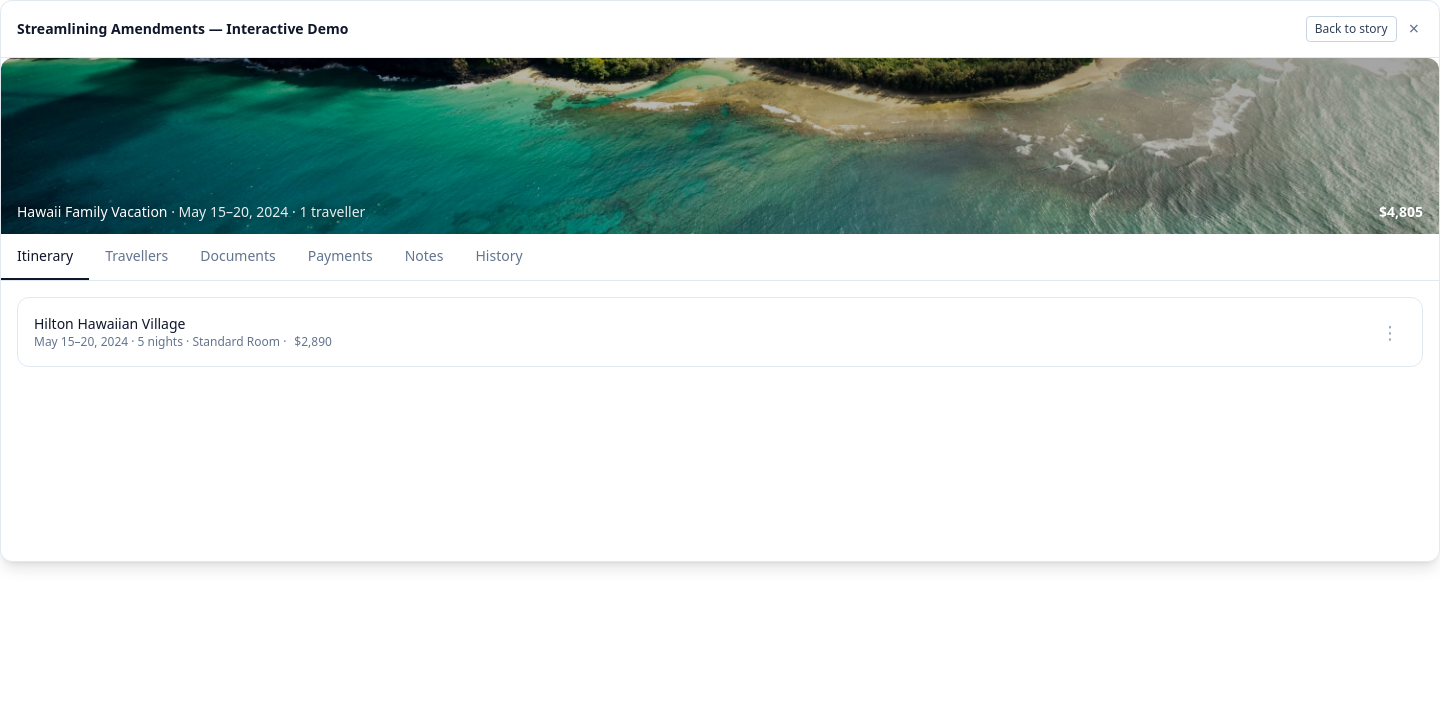
it: Dream flow – user flows › shows sold-out panel when selection includes sold night
This screenshot has width=1440, height=725.
Click the button named "Actions": (1390, 332) left=1374, top=316, right=1406, bottom=348
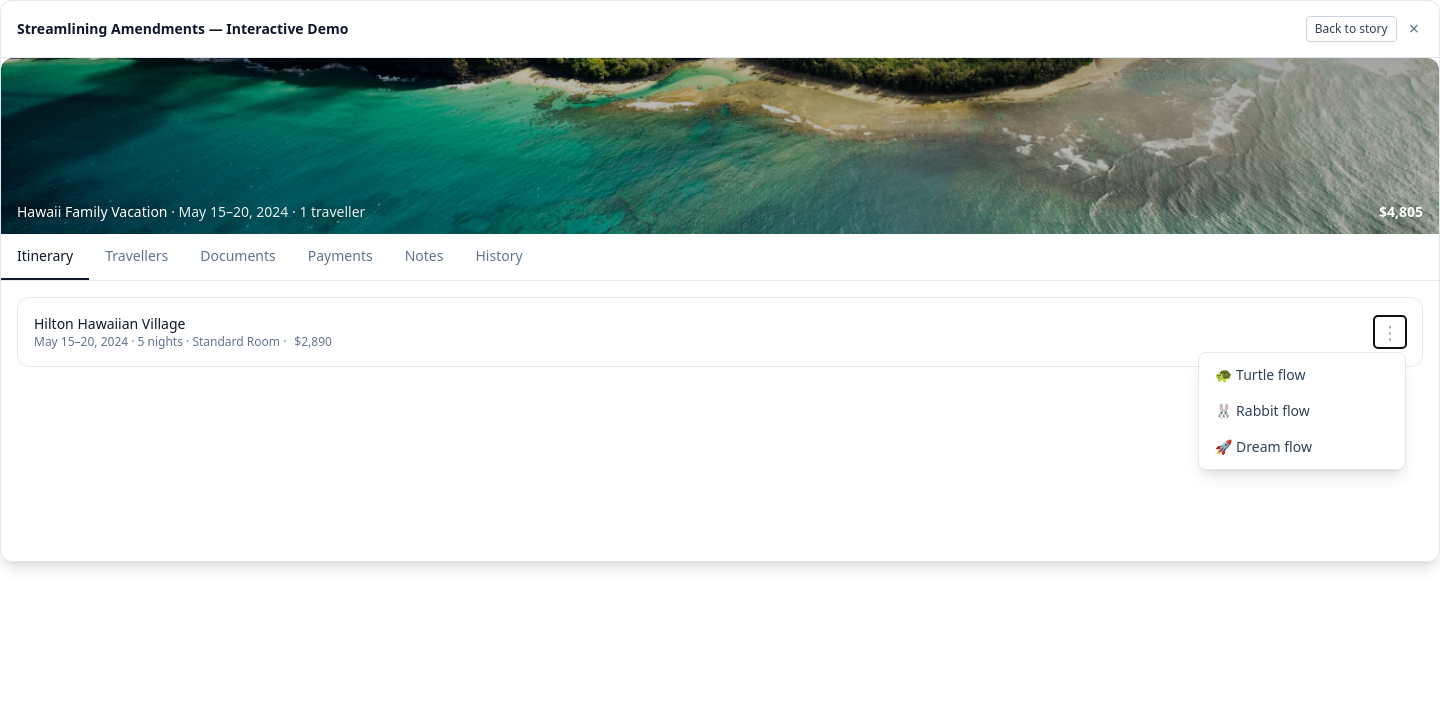
Click the button "🚀 Dream flow": (1302, 447) left=1199, top=429, right=1405, bottom=465
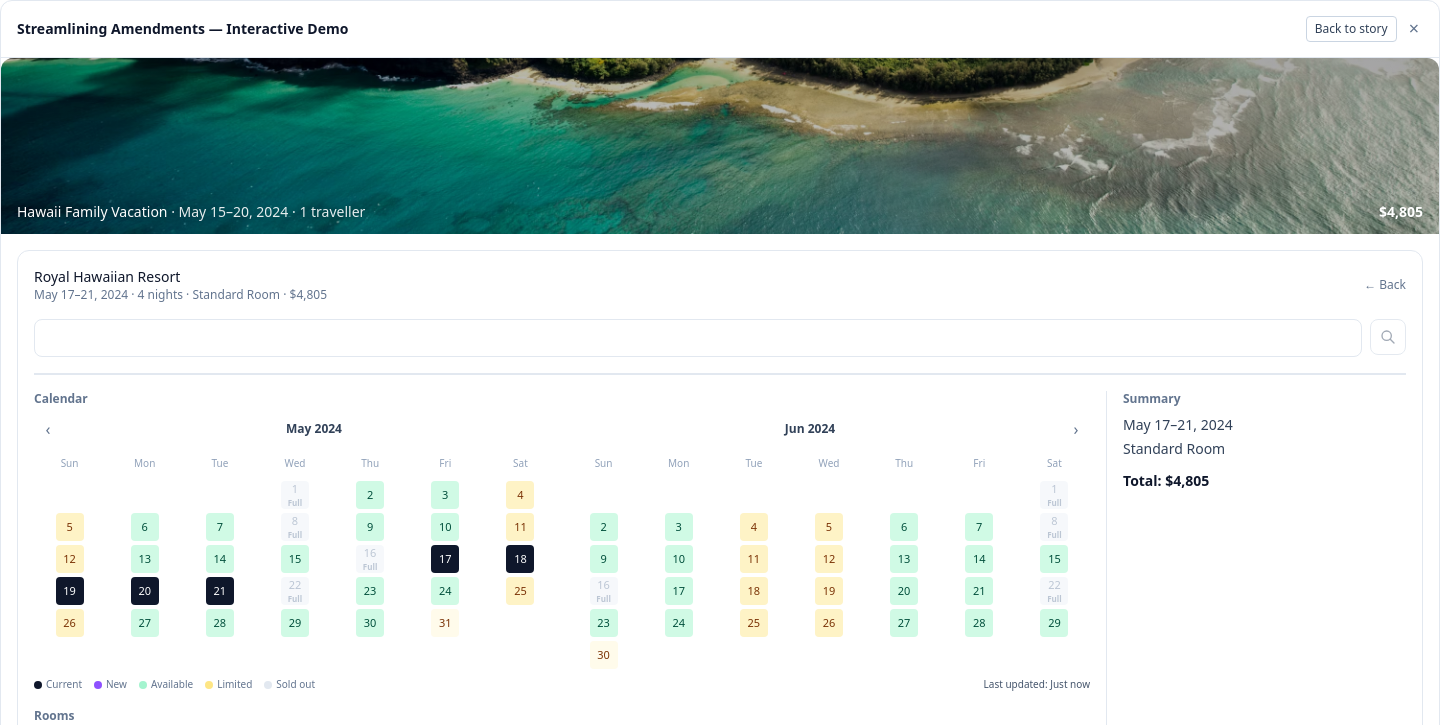
Check: the text "May 17–21, 2024 · 4 nights · Standard Room · $4,805" is shown, box left=34, top=286, right=327, bottom=303
Note: Expand range to include day 22 (sold) – click day 23
Click the 1st button "23": (370, 591) left=356, top=577, right=384, bottom=605
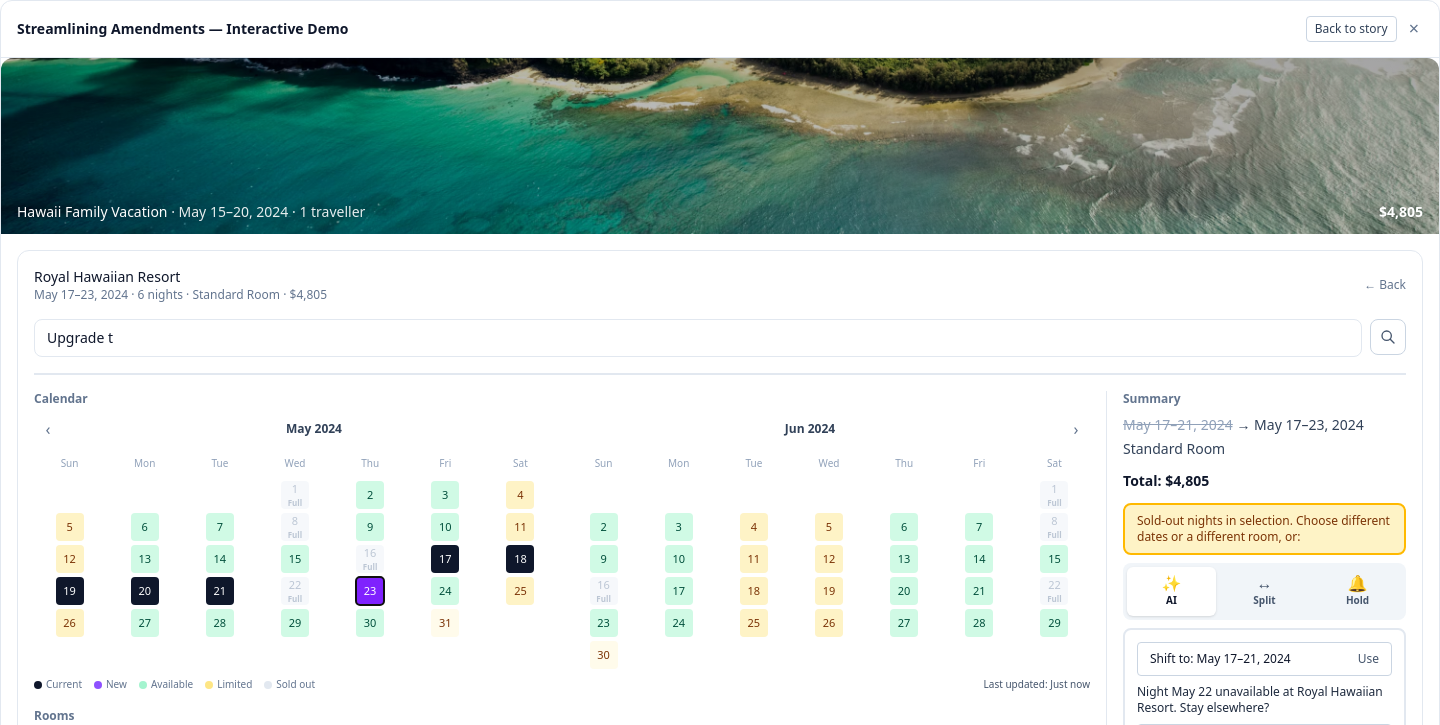
Check: the text "Sold-out nights in selection" is shown, box left=1137, top=512, right=1390, bottom=545
